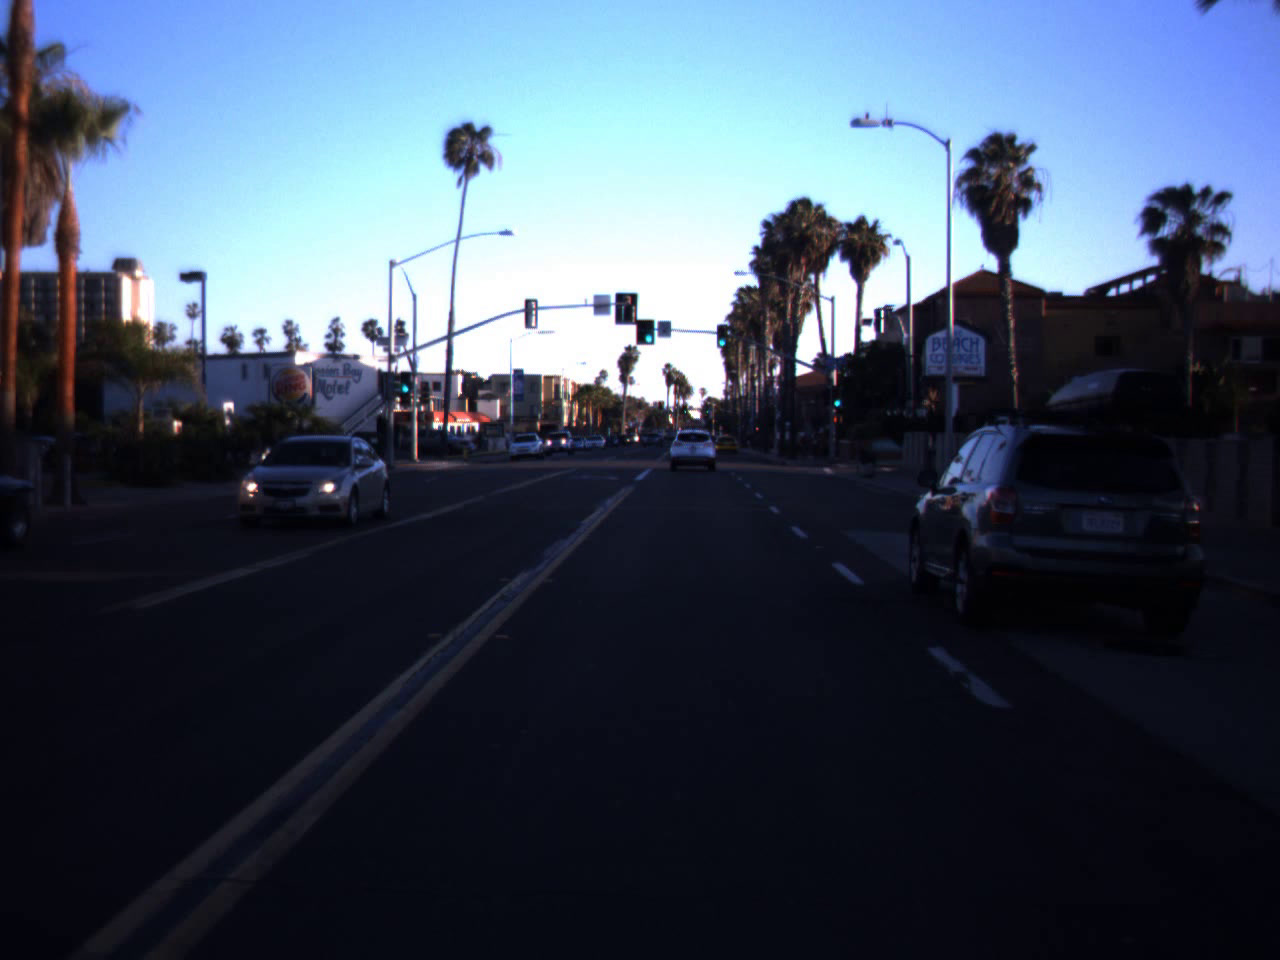go: (398, 365, 413, 395), (641, 315, 656, 345), (831, 383, 843, 408), (716, 327, 728, 347)
